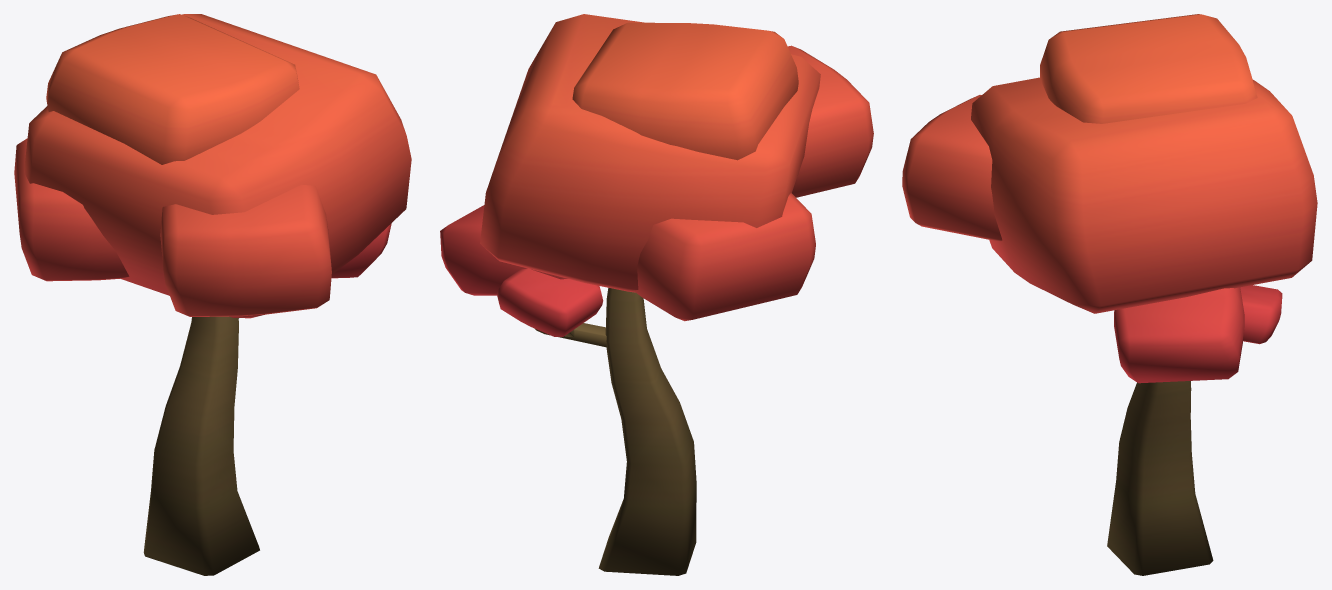
Rendered from Tree_2_2.glb.
3 renders of one model, left to right at view 1: azimuth 30°, elevation 25°; view 2: azimuth 150°, elevation 25°; view 3: azimuth 270°, elevation 25°, orthographic. The views are drawn at different scales.
Visible parts, largest first — view 1: Tree_2_2; view 2: Tree_2_2; view 3: Tree_2_2.
Boxes of the visible parts, box(x1,y1,x2,y2) form: Tree_2_2: box(14, 14, 411, 575); Tree_2_2: box(440, 14, 873, 575); Tree_2_2: box(902, 14, 1317, 575).
Size of the model in its own units: 2.43 by 3.37 by 2.59.
Materials: 1 (1 with a texture image).
